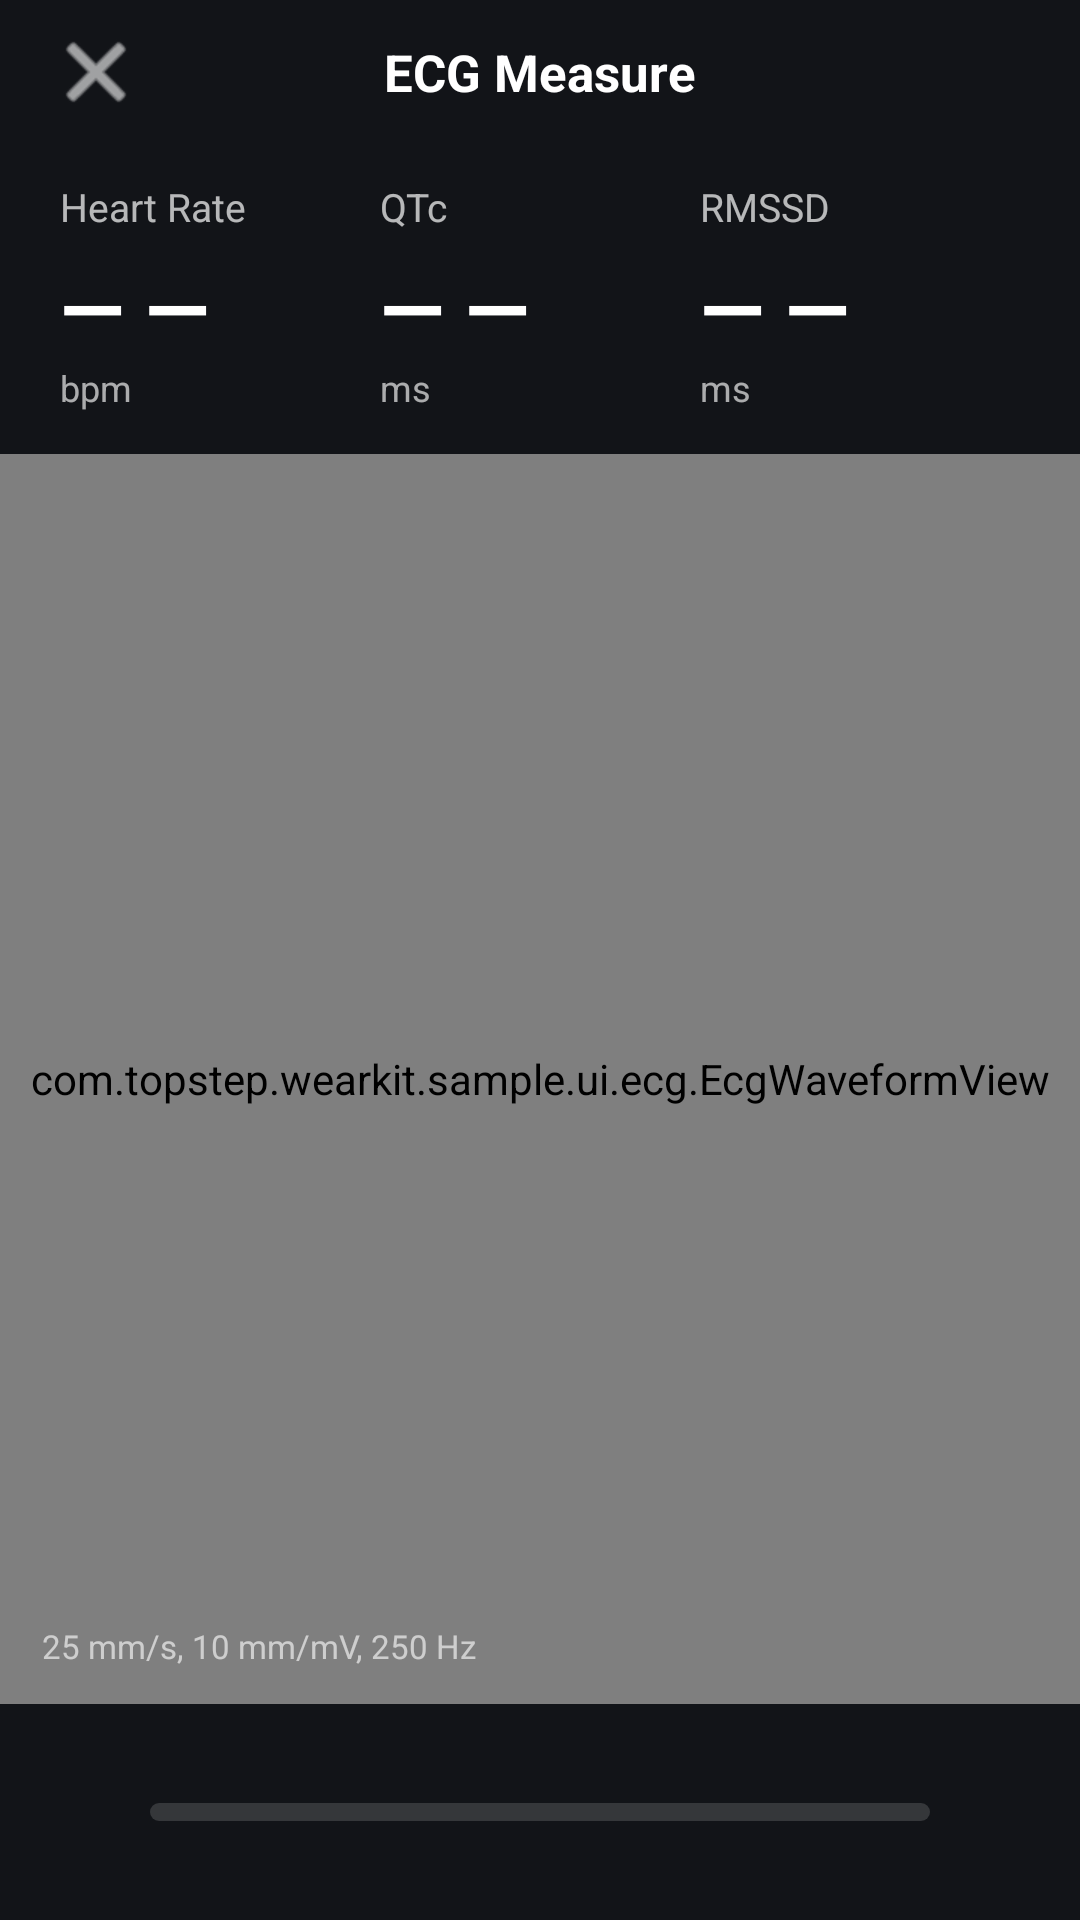

Locate icon controls on the screen. Image size 1080x1920, boxes as (x1,y1,x2,y2).
Exit: (66,42,126,102)
